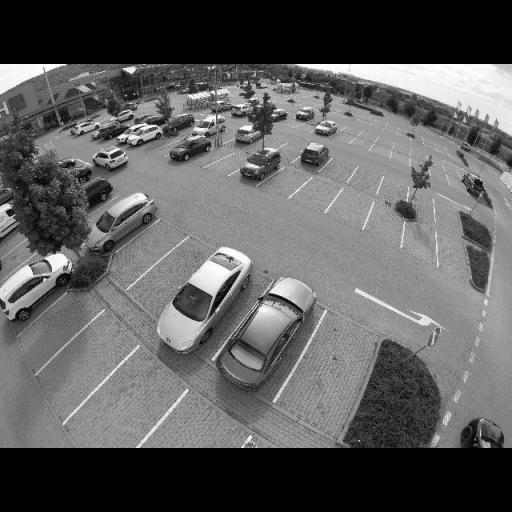busy: (154, 247, 254, 351), (220, 278, 310, 390), (0, 258, 66, 320), (84, 194, 154, 250), (238, 148, 282, 180), (467, 417, 507, 447), (169, 138, 213, 160), (84, 180, 114, 207), (299, 142, 330, 168), (125, 126, 163, 146), (96, 121, 130, 141), (462, 173, 487, 198), (164, 114, 194, 134), (195, 117, 224, 136), (233, 126, 261, 144), (314, 119, 338, 135), (131, 114, 159, 124), (296, 108, 316, 121), (229, 104, 249, 117), (270, 108, 288, 122)
free: (299, 344, 365, 398), (102, 386, 158, 425), (164, 422, 228, 448), (64, 344, 110, 373), (160, 259, 195, 280), (46, 310, 79, 332), (130, 240, 162, 262), (371, 217, 402, 237), (406, 230, 434, 252), (440, 248, 468, 270), (336, 201, 366, 218), (434, 206, 459, 226), (410, 194, 432, 211), (4, 254, 26, 271), (304, 188, 330, 202), (382, 186, 405, 200), (352, 175, 376, 188), (261, 135, 281, 150), (278, 175, 300, 188), (195, 154, 216, 166), (327, 164, 347, 176), (413, 158, 432, 170), (448, 178, 462, 192), (394, 153, 410, 164), (226, 158, 243, 168), (164, 144, 178, 156), (374, 145, 389, 156), (283, 146, 299, 156), (432, 170, 445, 182), (355, 140, 370, 150), (346, 125, 358, 137), (361, 132, 375, 142), (220, 132, 233, 142), (334, 136, 349, 144), (150, 141, 165, 149), (384, 126, 395, 136), (300, 124, 313, 130)
